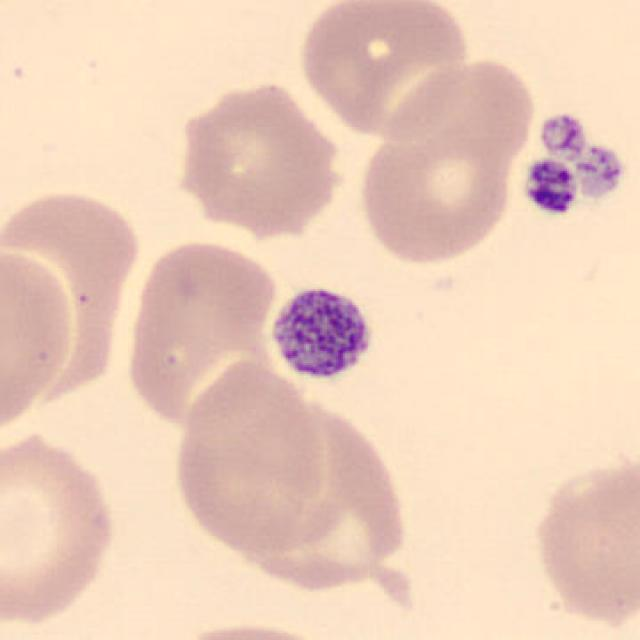Platelets: (265, 280, 379, 388), (564, 139, 630, 201), (519, 157, 581, 219), (526, 109, 596, 161)
RBC: (354, 64, 532, 272), (169, 354, 334, 561), (244, 402, 413, 602), (4, 182, 142, 422), (123, 236, 281, 418), (170, 76, 347, 238), (293, 0, 475, 141), (0, 425, 123, 631), (524, 446, 640, 633), (0, 242, 80, 437), (162, 615, 346, 640)
